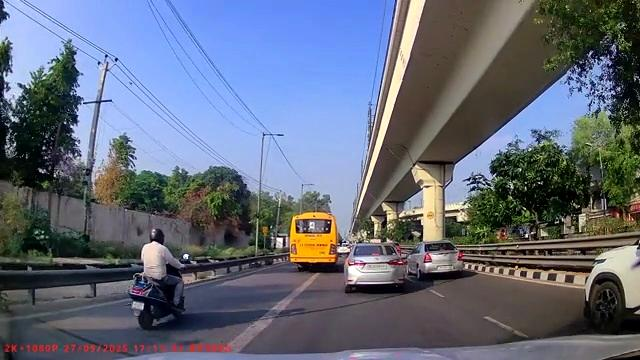motorcycle_with_helmet: (129, 226, 188, 330)
